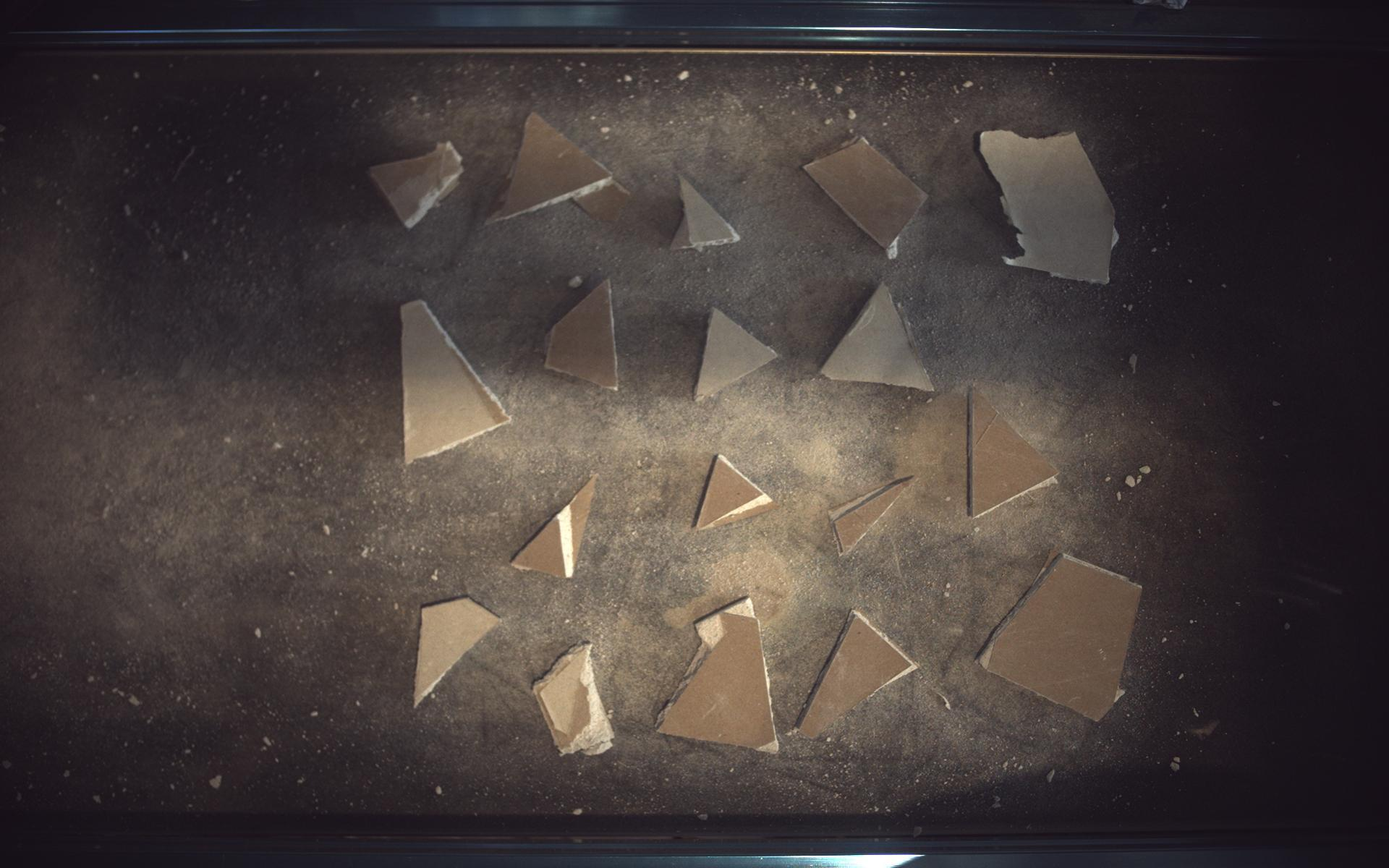gypsum_board: (980, 552, 1144, 722), (982, 129, 1121, 283), (658, 597, 780, 754), (400, 299, 511, 464), (488, 111, 631, 222), (799, 610, 919, 739), (805, 136, 929, 260), (822, 282, 936, 391), (969, 386, 1060, 519), (414, 599, 500, 708), (533, 644, 615, 757), (512, 474, 597, 579), (368, 140, 464, 228), (545, 279, 618, 389), (697, 307, 778, 400), (831, 477, 917, 556), (695, 454, 780, 531), (671, 174, 741, 250)
